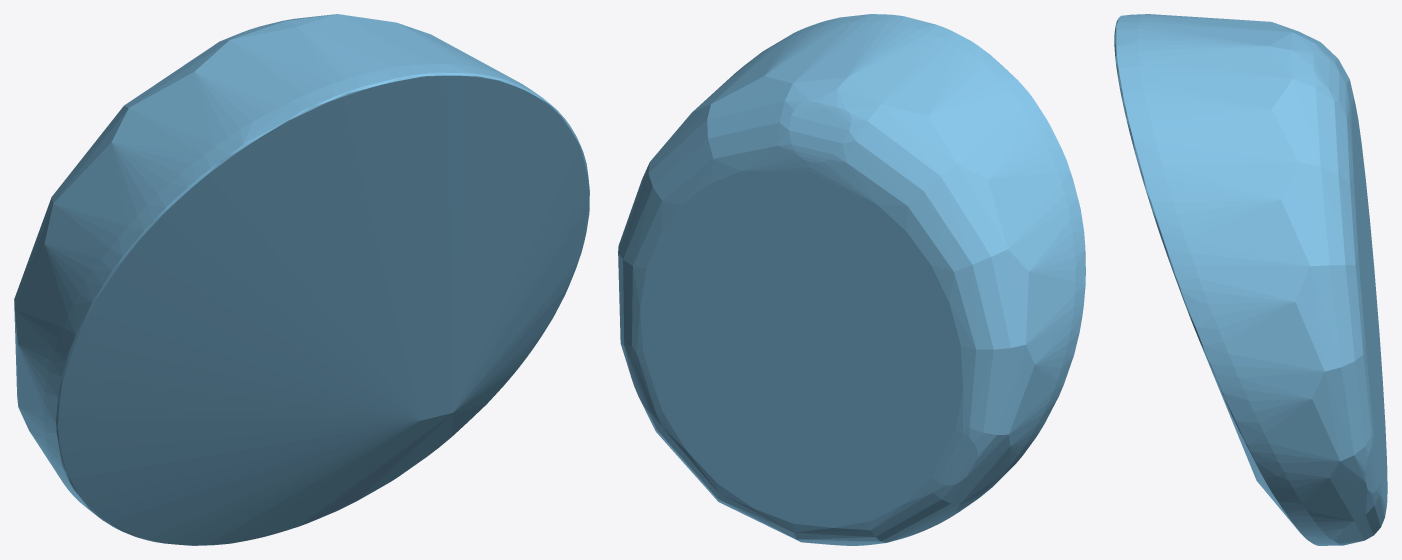
The model's file is ur10_e_link5_visible_vis_3.dae.
The picture shows the model from 3 angles, left to right: view 1: azimuth 30°, elevation 25°; view 2: azimuth 150°, elevation 25°; view 3: azimuth 270°, elevation 25°; orthographic projection. The views are drawn at different scales.
Parts seen in each view (by area): view 1: node; view 2: node; view 3: node.
Part boxes in pixels (<box>): node: <box>14,14,589,545</box>; node: <box>618,14,1085,545</box>; node: <box>1114,14,1387,545</box>.
Bounding box in the file's own units: 0.091 × 0.0909 × 0.0467.
